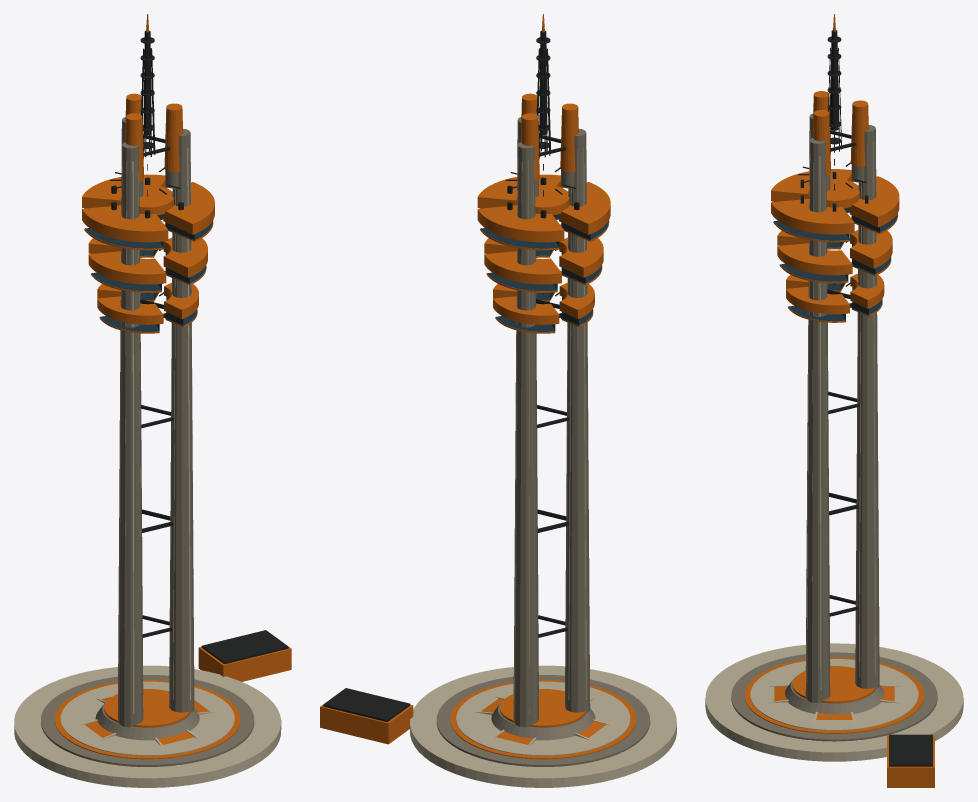
File: TourEchangeur.obj
3 views of the same model, side by side, from view 1: azimuth 30°, elevation 25°; view 2: azimuth 150°, elevation 25°; view 3: azimuth 270°, elevation 25° (orthographic). The views are drawn at different scales.
Parts seen in each view (by area): view 1: Concrete_warm_grey, Ochre_gold, Pale_stone, Dark_steel, Smoky_blue_glass; view 2: Concrete_warm_grey, Ochre_gold, Pale_stone, Dark_steel, Smoky_blue_glass; view 3: Concrete_warm_grey, Ochre_gold, Pale_stone, Dark_steel, Smoky_blue_glass.
Part boxes in pixels (bbox=[...]): Concrete_warm_grey: bbox=[41, 117, 254, 766]; Ochre_gold: bbox=[54, 14, 291, 759]; Pale_stone: bbox=[14, 135, 281, 787]; Dark_steel: bbox=[110, 31, 288, 664]; Smoky_blue_glass: bbox=[85, 208, 213, 331]; Concrete_warm_grey: bbox=[436, 117, 650, 766]; Ochre_gold: bbox=[320, 14, 636, 759]; Pale_stone: bbox=[410, 135, 676, 787]; Dark_steel: bbox=[323, 30, 579, 722]; Smoky_blue_glass: bbox=[480, 208, 608, 331]; Concrete_warm_grey: bbox=[731, 113, 937, 741]; Ochre_gold: bbox=[744, 14, 934, 787]; Pale_stone: bbox=[705, 131, 963, 761]; Dark_steel: bbox=[798, 30, 932, 766]; Smoky_blue_glass: bbox=[774, 201, 897, 321].
Size of the model in its own units: 33.5 by 80 by 27.
